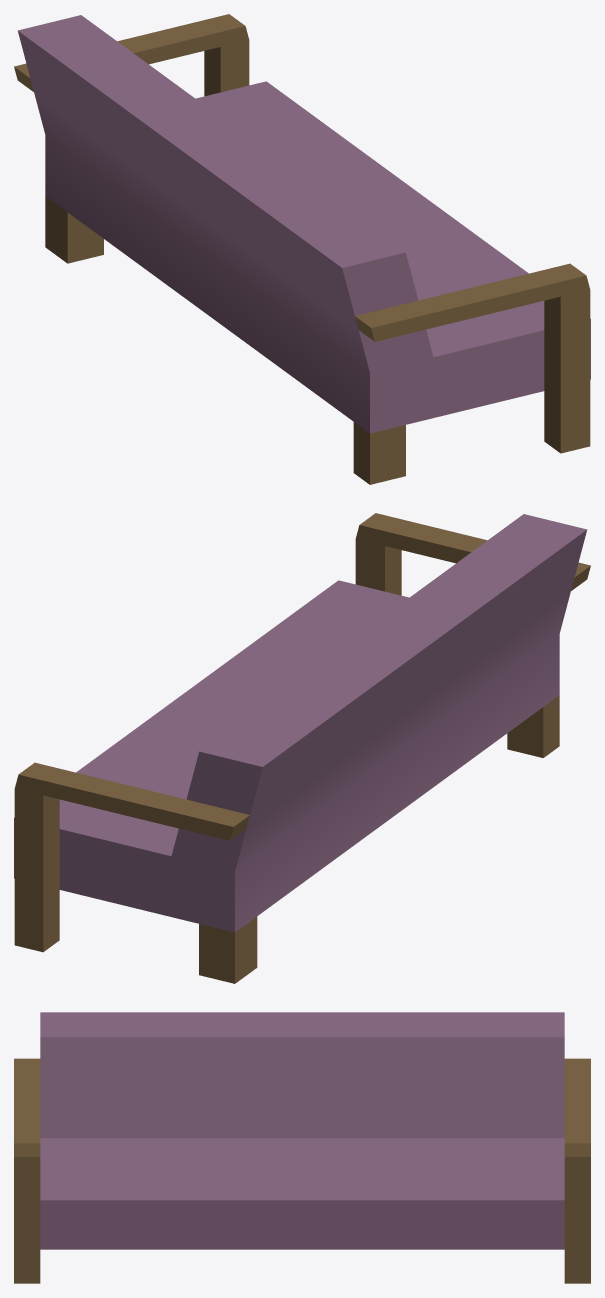
The model's file is SofaLongPink.fbx.
3 renders of one model, top to bottom at view 1: azimuth 30°, elevation 25°; view 2: azimuth 150°, elevation 25°; view 3: azimuth 270°, elevation 25°, orthographic. The views are drawn at different scales.
Visible parts, largest first — view 1: pCube3; view 2: pCube3; view 3: pCube3.
Part boxes in pixels (left/top/right/bottom): pCube3: left=14, top=14, right=590, bottom=484; pCube3: left=14, top=513, right=590, bottom=983; pCube3: left=14, top=1012, right=590, bottom=1283.
Size of the model in its own units: 8.16 by 7.01 by 20.31.
